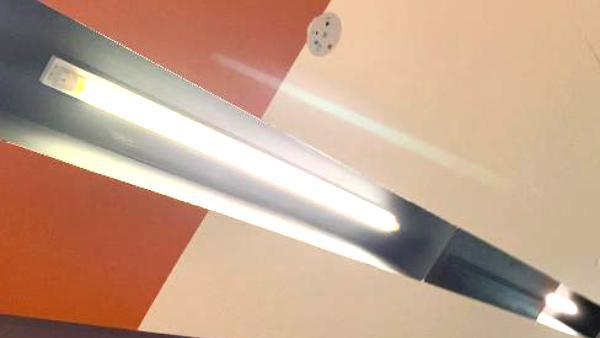light_on: (28, 43, 406, 242), (531, 272, 587, 338)
